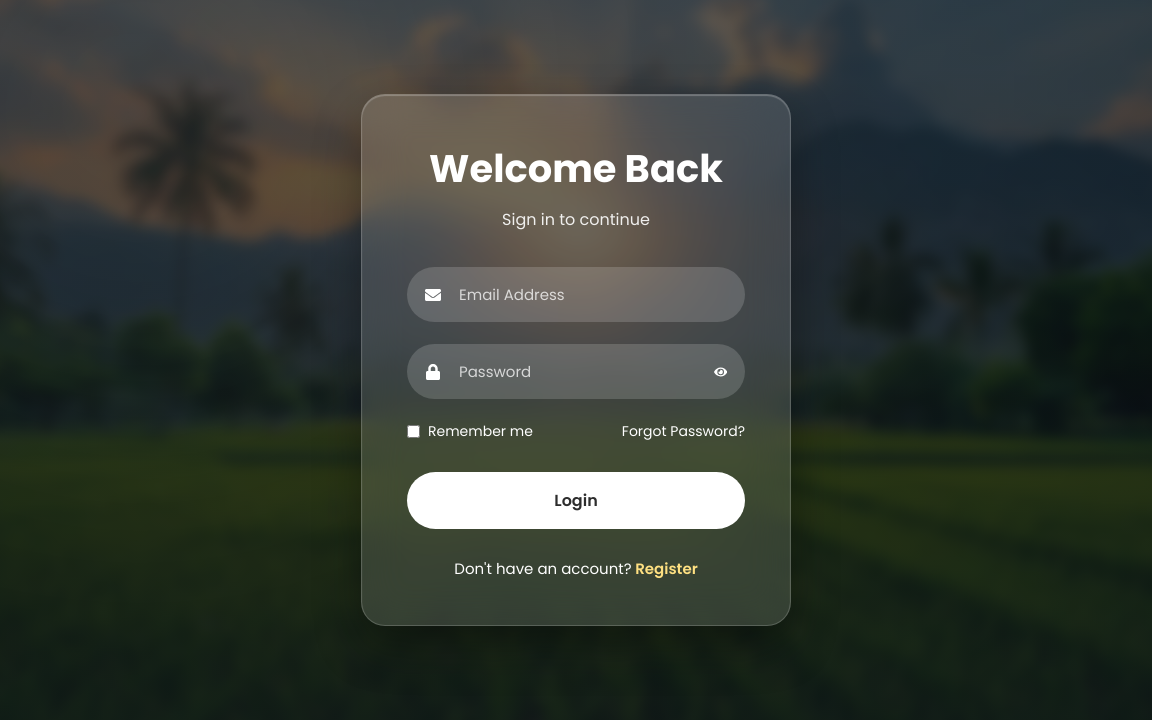
it: Login Component › toggles password visibility
Click the button named "show password". click: click(720, 371)
box: x1=714 y1=365 x2=727 y2=378
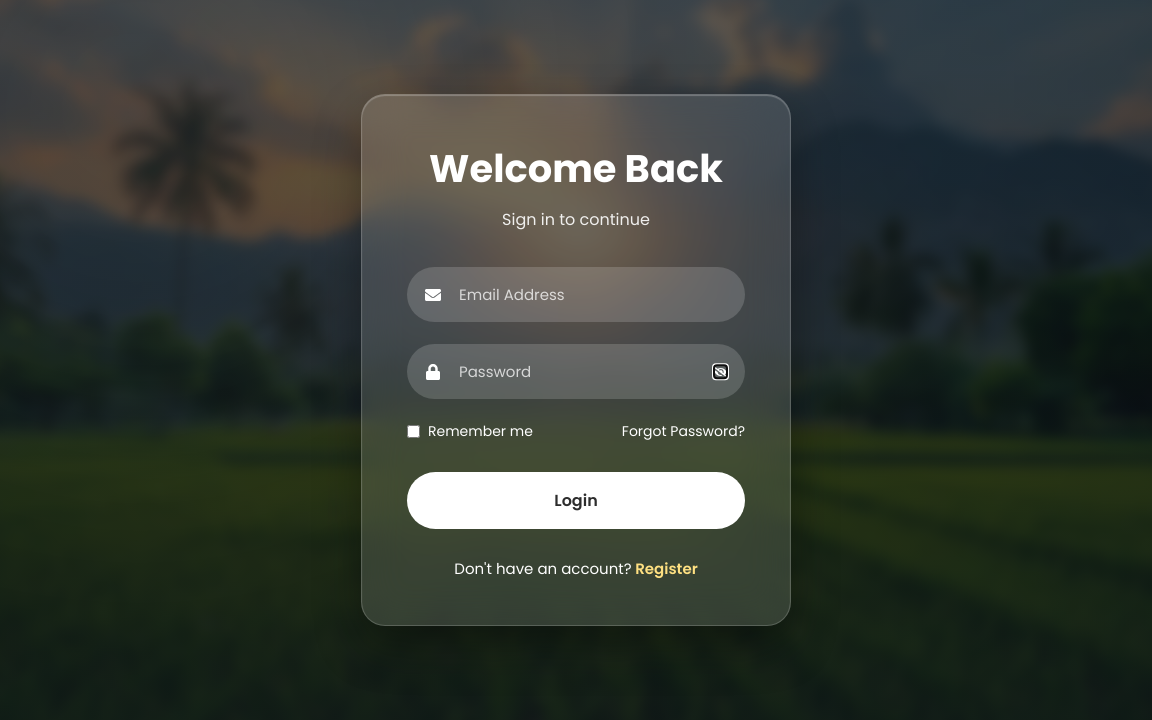
Expected: the button named "hide password" is shown, x1=714 y1=365 x2=727 y2=378
